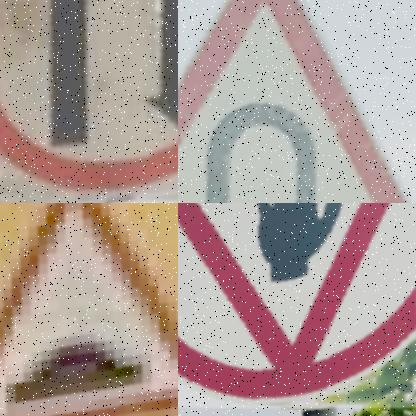Speed Breaker Ahead: (0, 203, 178, 416)
Stop: (178, 203, 416, 407)
U-Turn: (178, 0, 416, 203)
